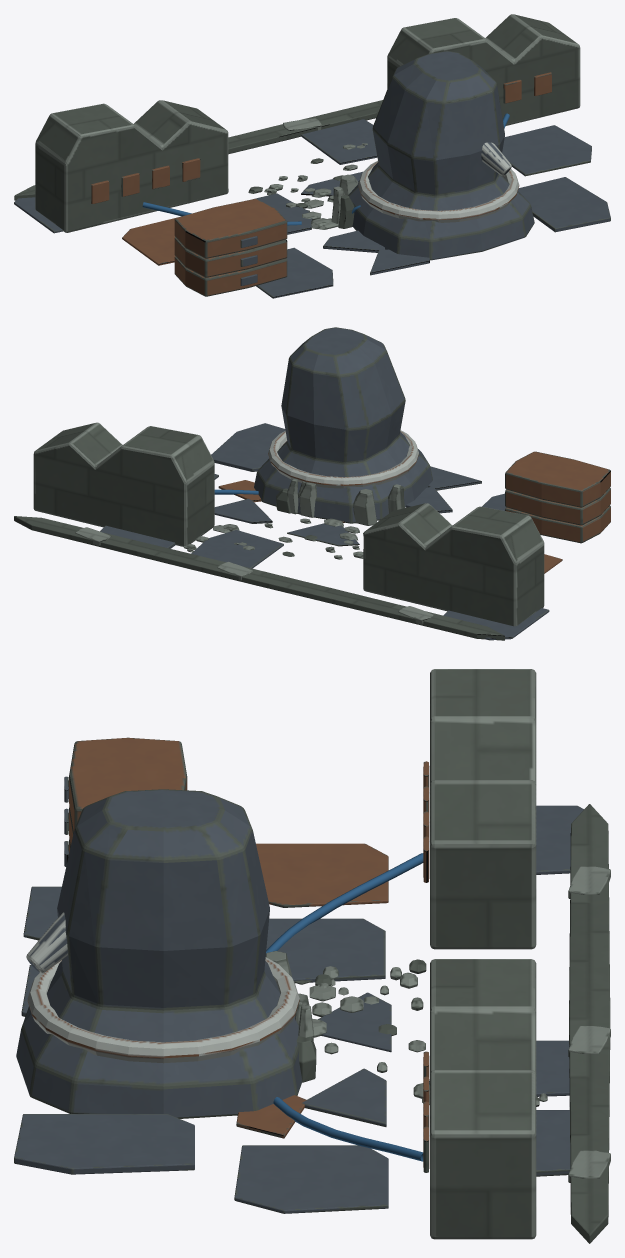
Rendered from checkpoint.glb.
3 renders of one model, top to bottom at view 1: azimuth 30°, elevation 25°; view 2: azimuth 150°, elevation 25°; view 3: azimuth 270°, elevation 25°, orthographic. The views are drawn at different scales.
Visible parts, largest first — view 1: GT_0131_checkpoint_Structure, GT_0131_checkpoint_GroundContact; view 2: GT_0131_checkpoint_Structure, GT_0131_checkpoint_GroundContact; view 3: GT_0131_checkpoint_Structure, GT_0131_checkpoint_GroundContact.
Part boxes in pixels (left/top/right/bottom): GT_0131_checkpoint_Structure: left=35, top=14, right=580, bottom=296; GT_0131_checkpoint_GroundContact: left=14, top=100, right=610, bottom=298; GT_0131_checkpoint_Structure: left=33, top=327, right=610, bottom=626; GT_0131_checkpoint_GroundContact: left=14, top=423, right=562, bottom=640; GT_0131_checkpoint_Structure: left=16, top=669, right=536, bottom=1239; GT_0131_checkpoint_GroundContact: left=14, top=804, right=610, bottom=1243.
Size of the model in its own units: 8.71 by 2.41 by 5.04.
Materials: 1 (1 with a texture image).
